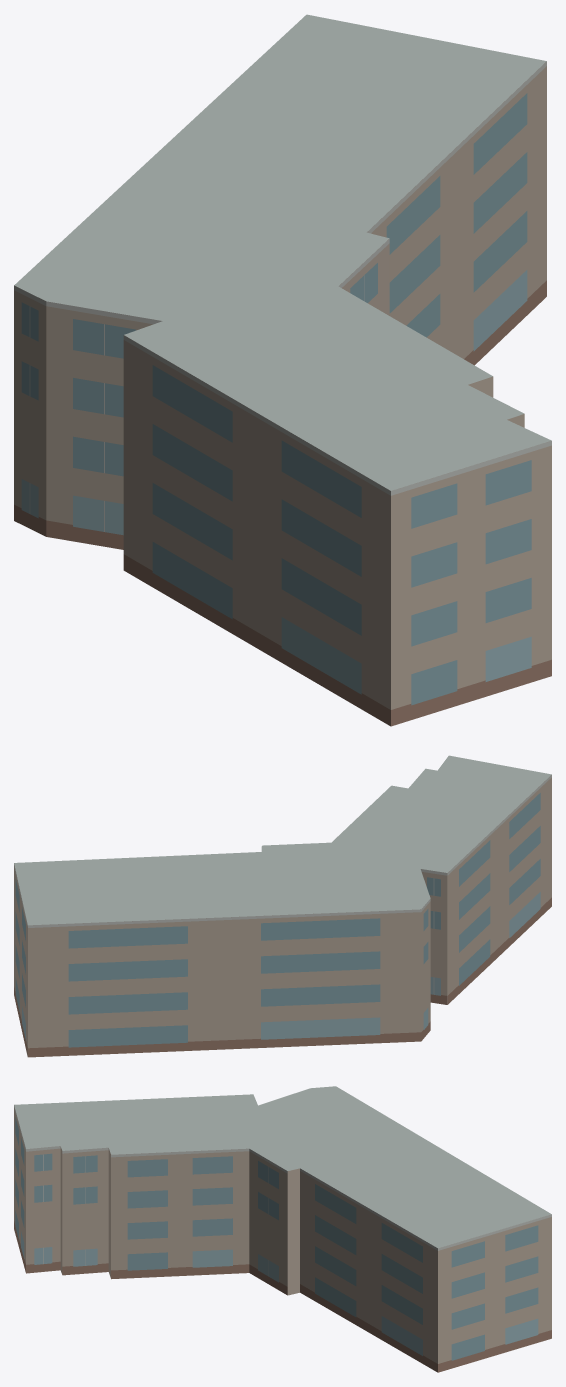
File: survey-upis-32770690.glb
The picture shows the model from 3 angles, top to bottom: view 1: azimuth 30°, elevation 25°; view 2: azimuth 150°, elevation 25°; view 3: azimuth 270°, elevation 25°; orthographic projection. The views are drawn at different scales.
Visible parts, largest first — view 1: survey-upis-32770690.tmp; view 2: survey-upis-32770690.tmp; view 3: survey-upis-32770690.tmp.
Part boxes in pixels (left/top/right/bottom): survey-upis-32770690.tmp: left=14, top=14, right=551, bottom=726; survey-upis-32770690.tmp: left=14, top=755, right=551, bottom=1057; survey-upis-32770690.tmp: left=14, top=1086, right=551, bottom=1372.
Bounding box in the file's own units: 33.02 × 11.8 × 46.28.
